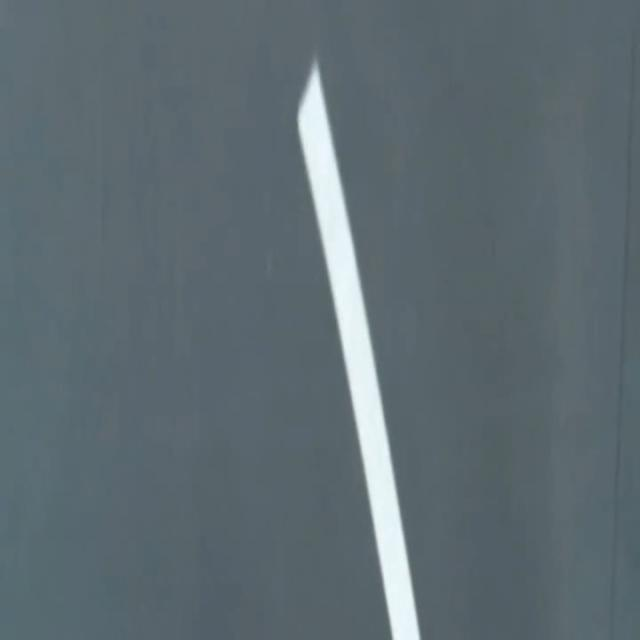center: (299, 59, 420, 639)
